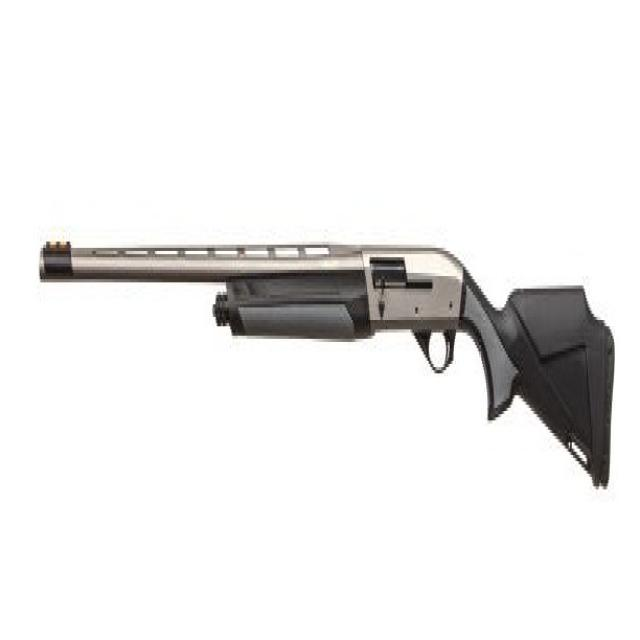rifle: (36, 199, 621, 489)
